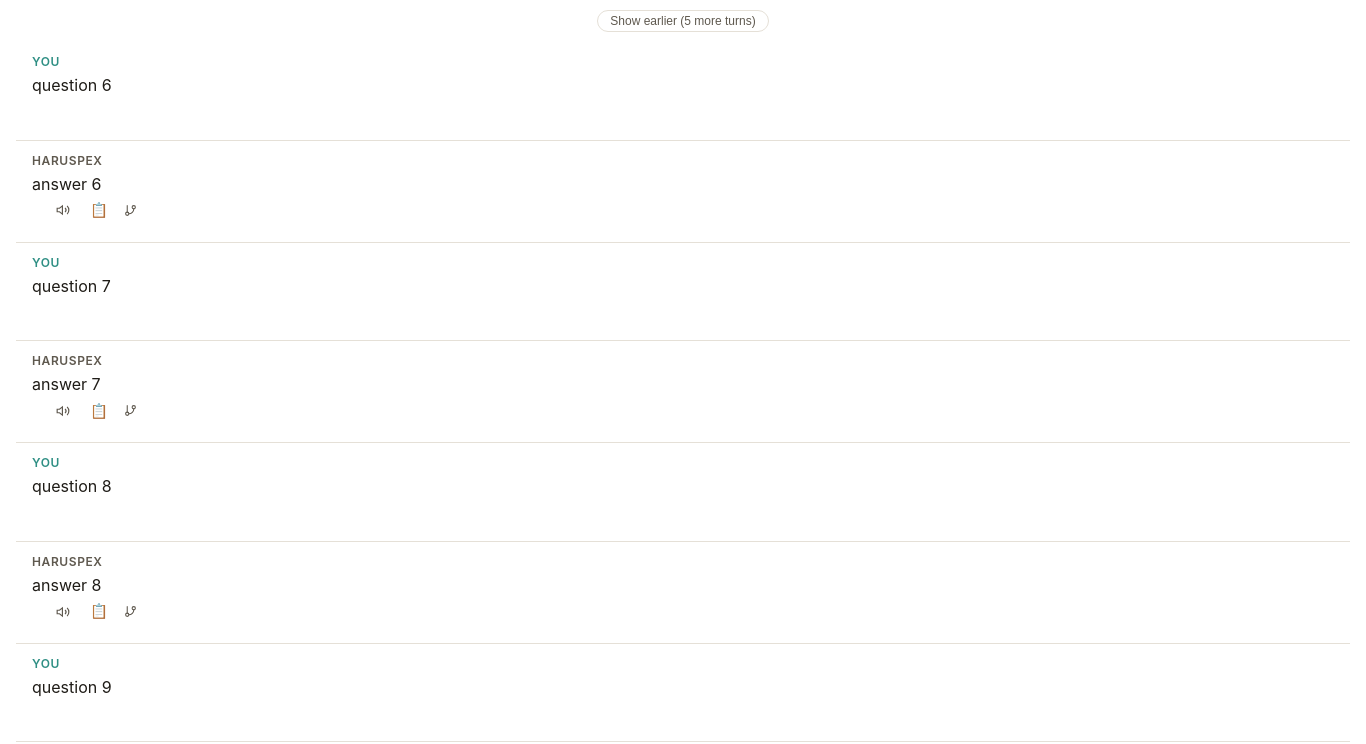
Test case: CodeTranscript render window › renders the last 20 turns of a long session, and earlier ones on request
Check: the text "question 6" is shown, box left=32, top=75, right=112, bottom=95
Step 1. Click the button "Show earlier (5 more turns)" → (683, 21), box left=597, top=10, right=769, bottom=32
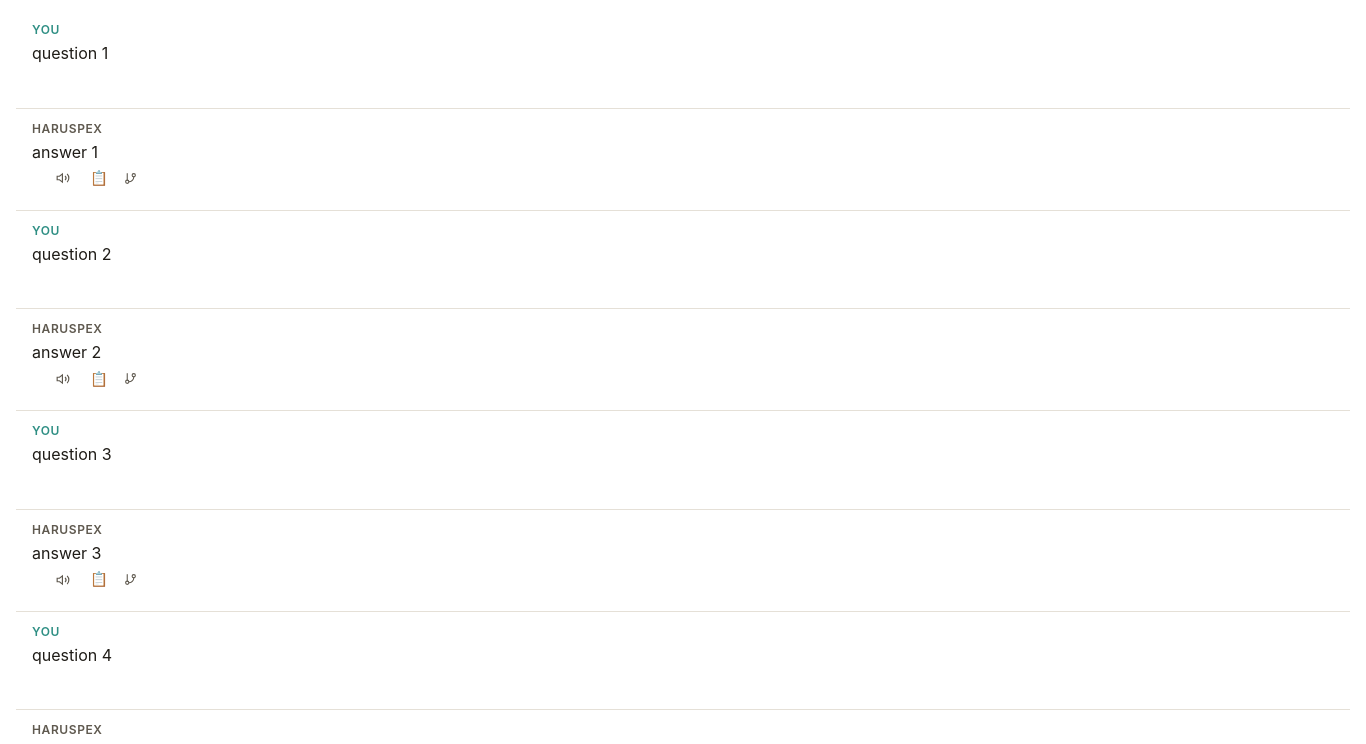
Check: the text "question 1" is shown, box left=32, top=43, right=108, bottom=63
Check: the button "Show earlier" is gone
